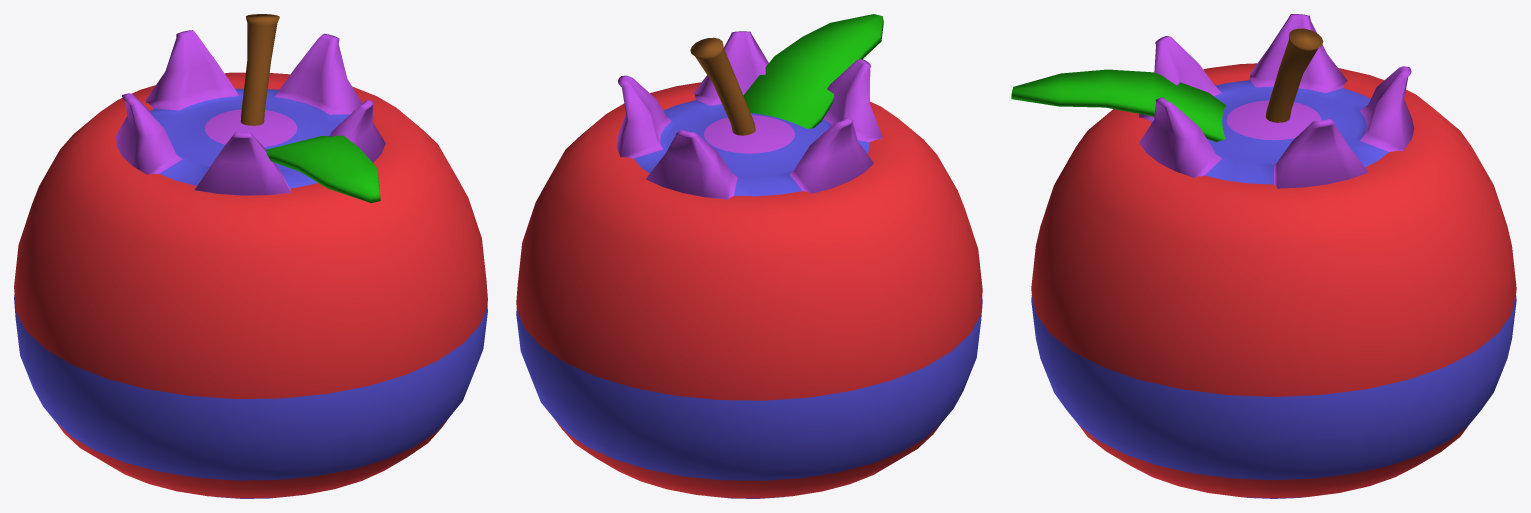
The model's file is Fruit.fbx.
The picture shows the model from 3 angles, left to right: view 1: azimuth 30°, elevation 25°; view 2: azimuth 150°, elevation 25°; view 3: azimuth 270°, elevation 25°; orthographic projection. The views are drawn at different scales.
Parts seen in each view (by area): view 1: Apple, Blueberry; view 2: Apple, Blueberry; view 3: Apple, Blueberry.
Part boxes in pixels (left/top/right/bottom): Apple: left=14, top=14, right=487, bottom=498; Blueberry: left=14, top=30, right=487, bottom=498; Apple: left=516, top=14, right=982, bottom=498; Blueberry: left=516, top=31, right=982, bottom=498; Apple: left=1011, top=28, right=1516, bottom=498; Blueberry: left=1031, top=14, right=1516, bottom=498.
Size of the model in its own units: 200 by 202 by 208.
